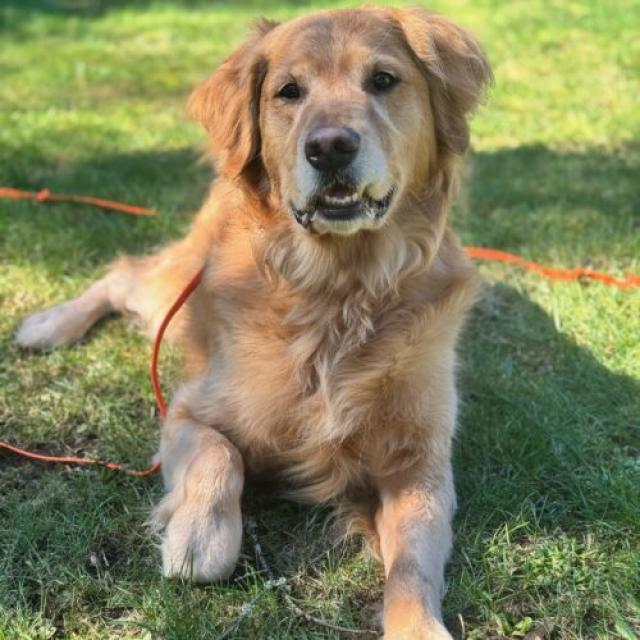golden_retriever_dog: (173, 3, 499, 302)
